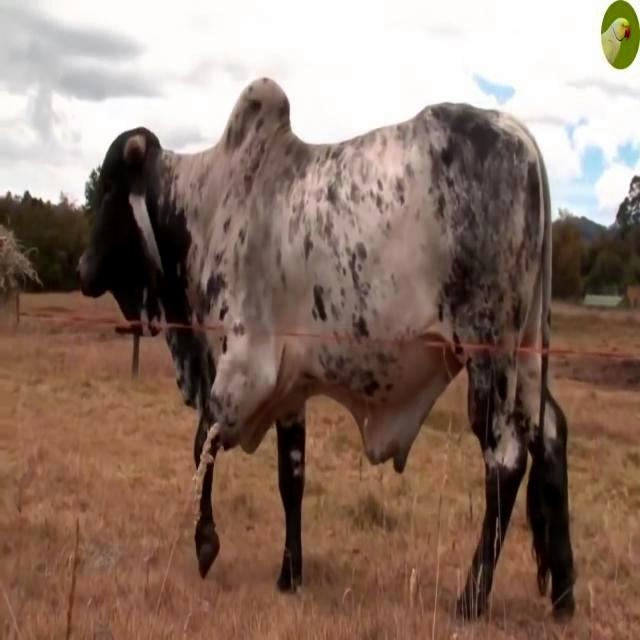COW: (79, 79, 571, 617)
